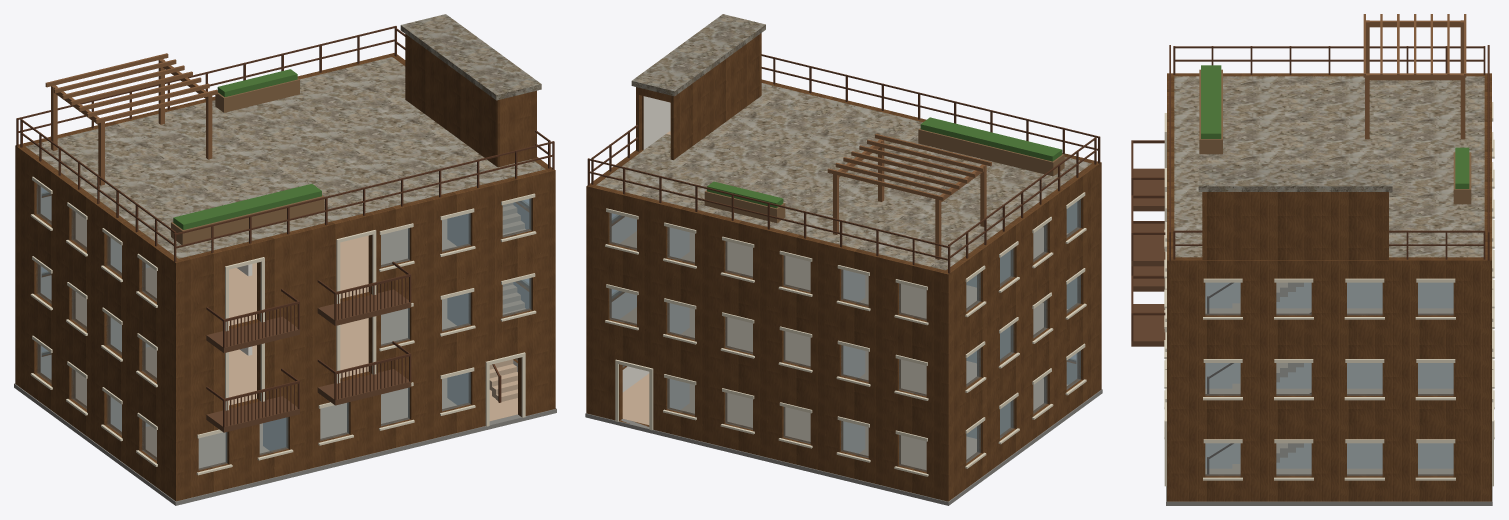
File: rw-river-flats.towns-v1.lod0.glb
The picture shows the model from 3 angles, left to right: view 1: azimuth 30°, elevation 25°; view 2: azimuth 150°, elevation 25°; view 3: azimuth 270°, elevation 25°; orthographic projection. The views are drawn at different scales.
Visible parts, largest first — view 1: rw-river-flats; view 2: rw-river-flats; view 3: rw-river-flats.
Part boxes in pixels (x1,y1,x2,y2): rw-river-flats: (14, 14, 556, 505); rw-river-flats: (585, 14, 1102, 505); rw-river-flats: (1131, 14, 1494, 505).
Bounding box in the file's own units: 15.18 × 11.95 × 12.29.
Materials: 6 (2 with a texture image).
